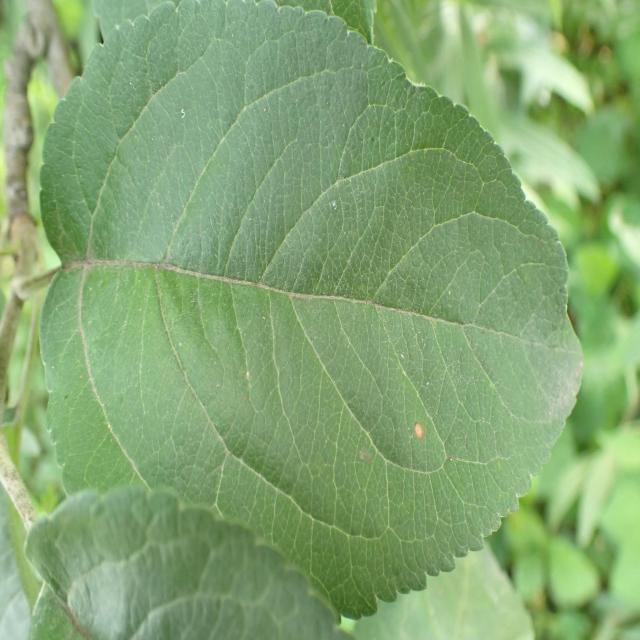Black Rot: (391, 406, 438, 465)
scab: (47, 175, 440, 347)
